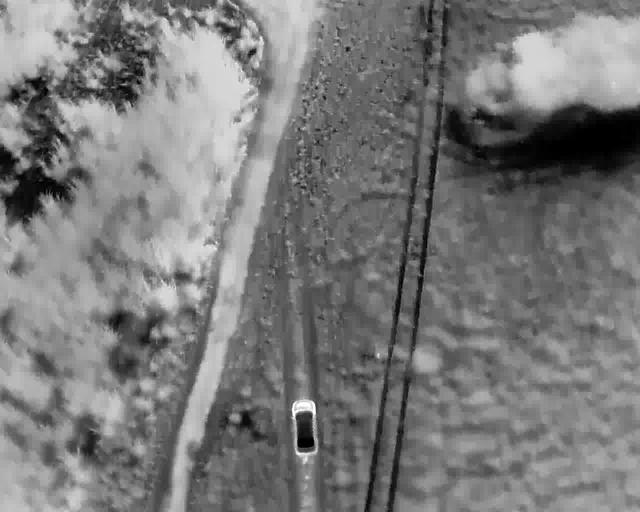car: (295, 370, 321, 427)
